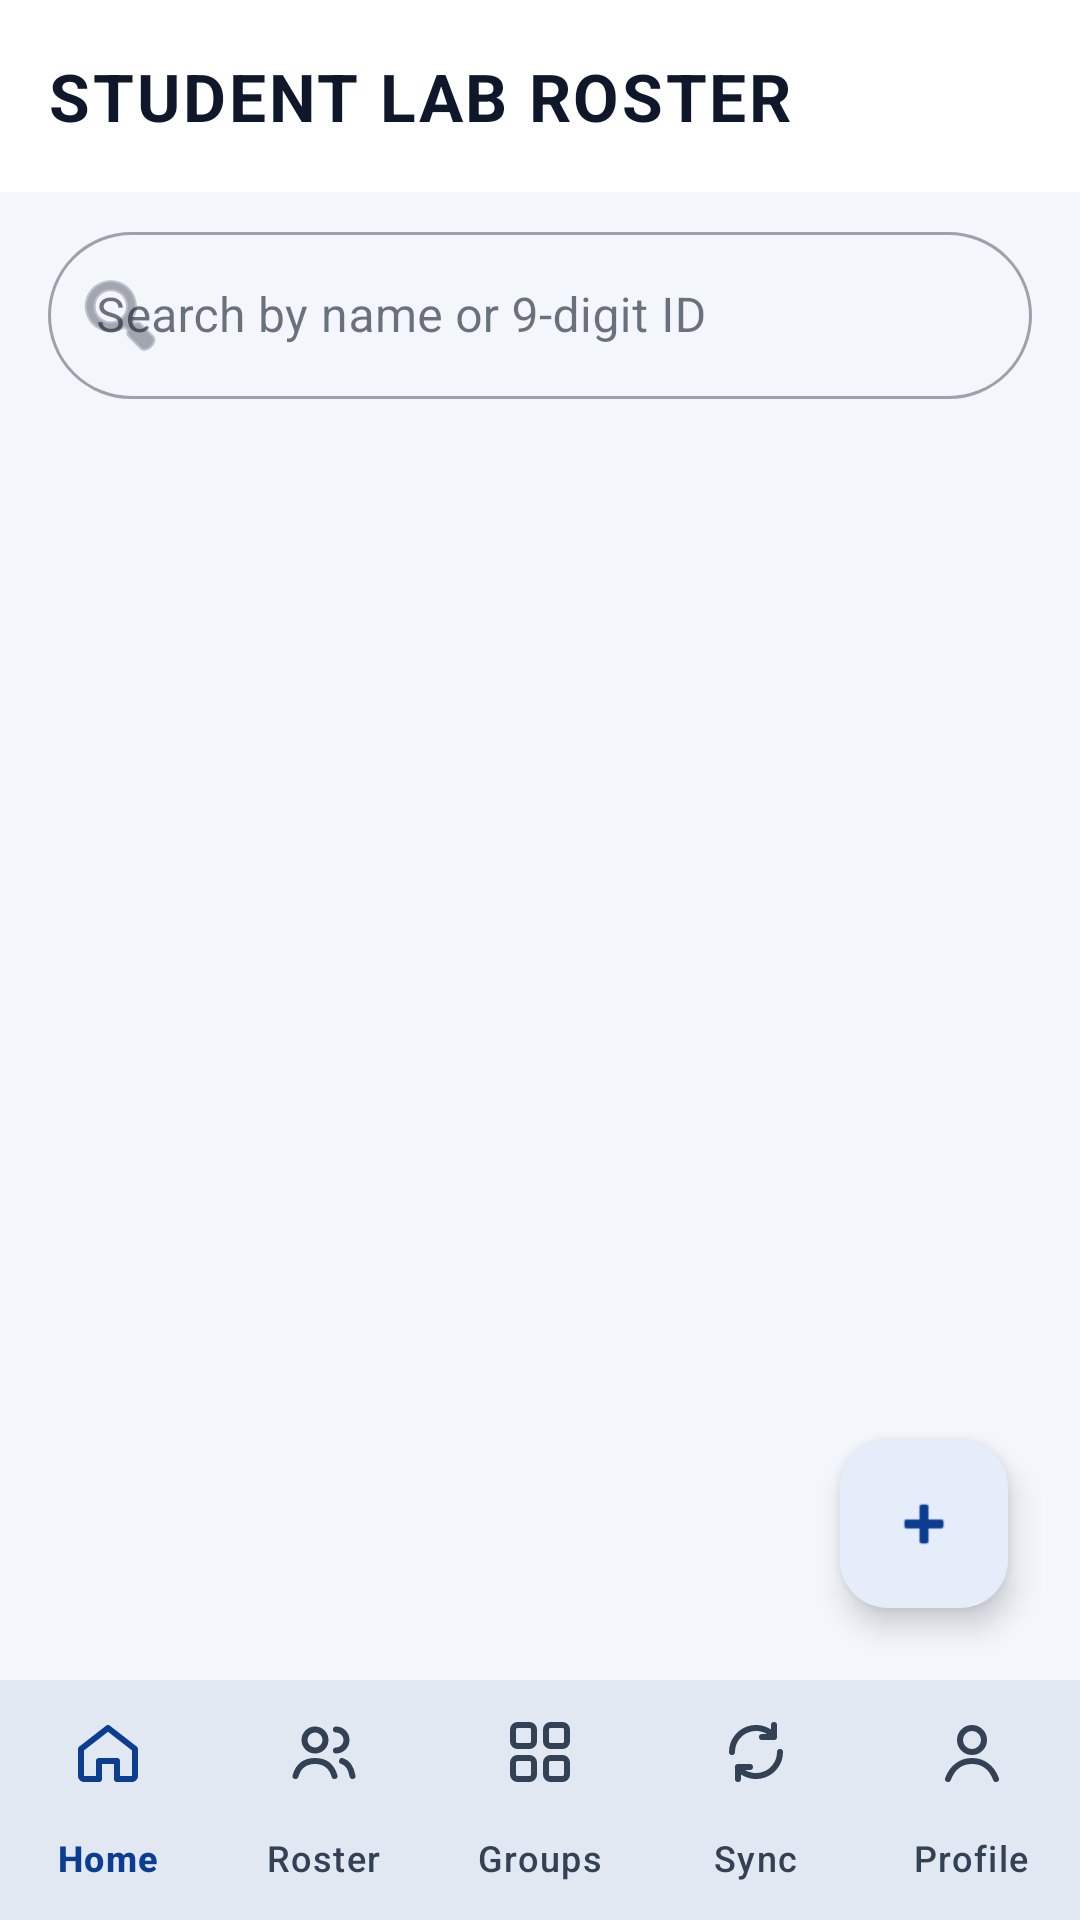

Point at icon controls on the screen. Image size 1080px×1920px, points as point (x, y).
Add New Student: point (924, 1524)
